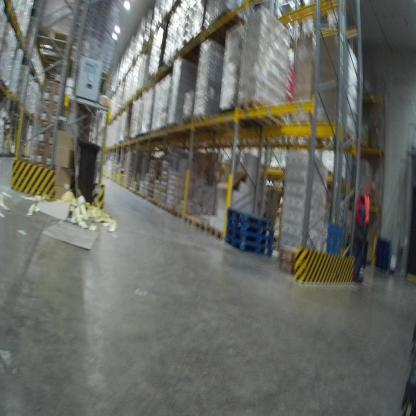pallet: (238, 95, 286, 130), (226, 223, 276, 251), (34, 26, 79, 53), (225, 214, 271, 238), (227, 209, 274, 231), (226, 234, 273, 255), (207, 225, 222, 242), (194, 221, 210, 235), (185, 212, 198, 226)
